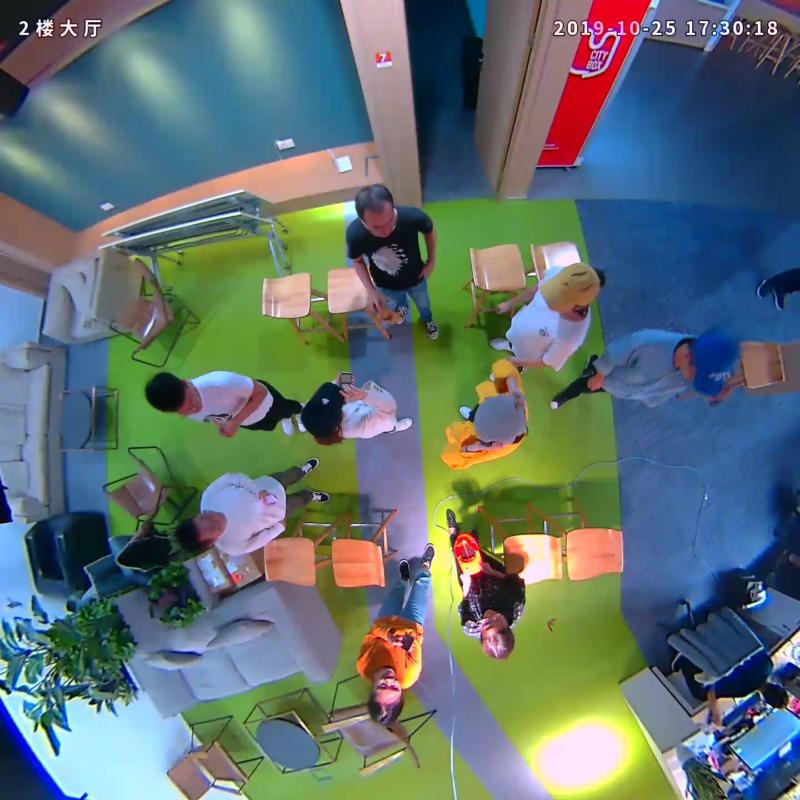head: (678, 324, 741, 399), (539, 261, 601, 315), (471, 393, 528, 445), (145, 372, 201, 416), (300, 383, 345, 436), (366, 667, 405, 725), (355, 183, 395, 238), (175, 511, 223, 555), (477, 608, 515, 661)
